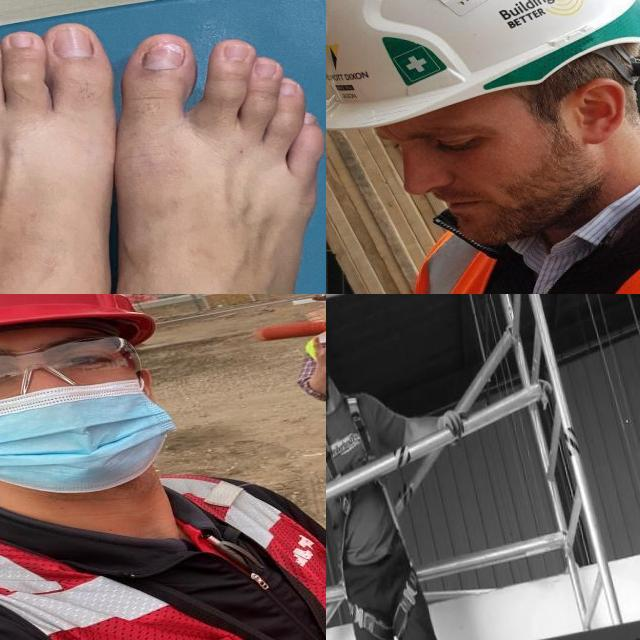Barefoots: (0, 20, 326, 294)
Harness: (326, 397, 370, 476)
No_Ear-Protection: (570, 76, 632, 147)
No_Glasses: (419, 113, 489, 175)
face_mask: (0, 342, 152, 484)
face_nomask: (364, 73, 608, 243)
glasses: (0, 334, 148, 413)
hand_noglove: (304, 335, 326, 372)
head_helmet: (326, 0, 640, 126), (0, 294, 160, 356)
person: (0, 294, 326, 640), (326, 0, 640, 294)
vest: (0, 467, 326, 640), (387, 195, 640, 294)
